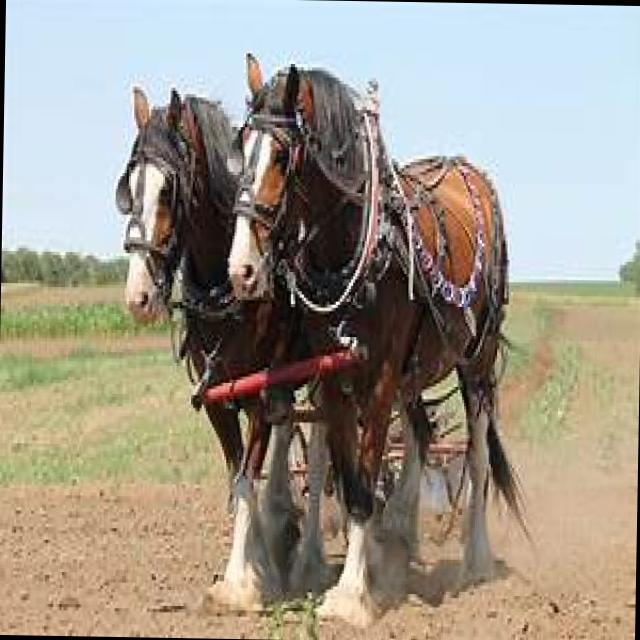animal: (217, 49, 542, 612), (106, 80, 384, 618)
